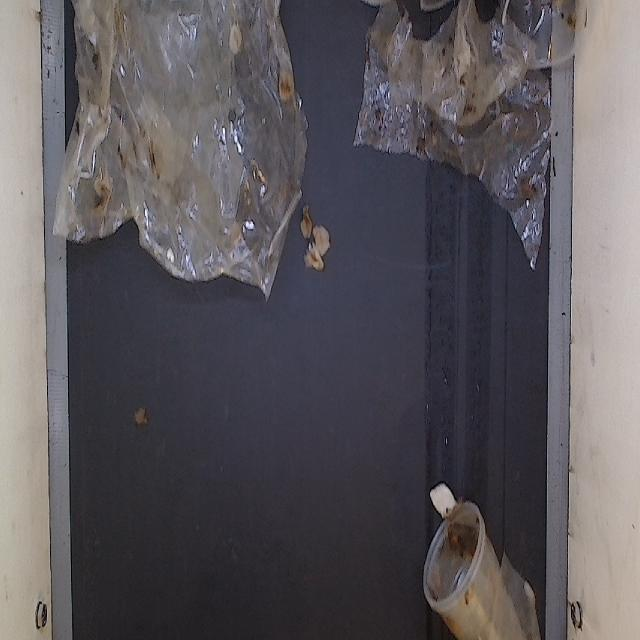plastic_cups: (396, 481, 550, 640)
plastic_films: (61, 0, 319, 334), (346, 0, 584, 241)
